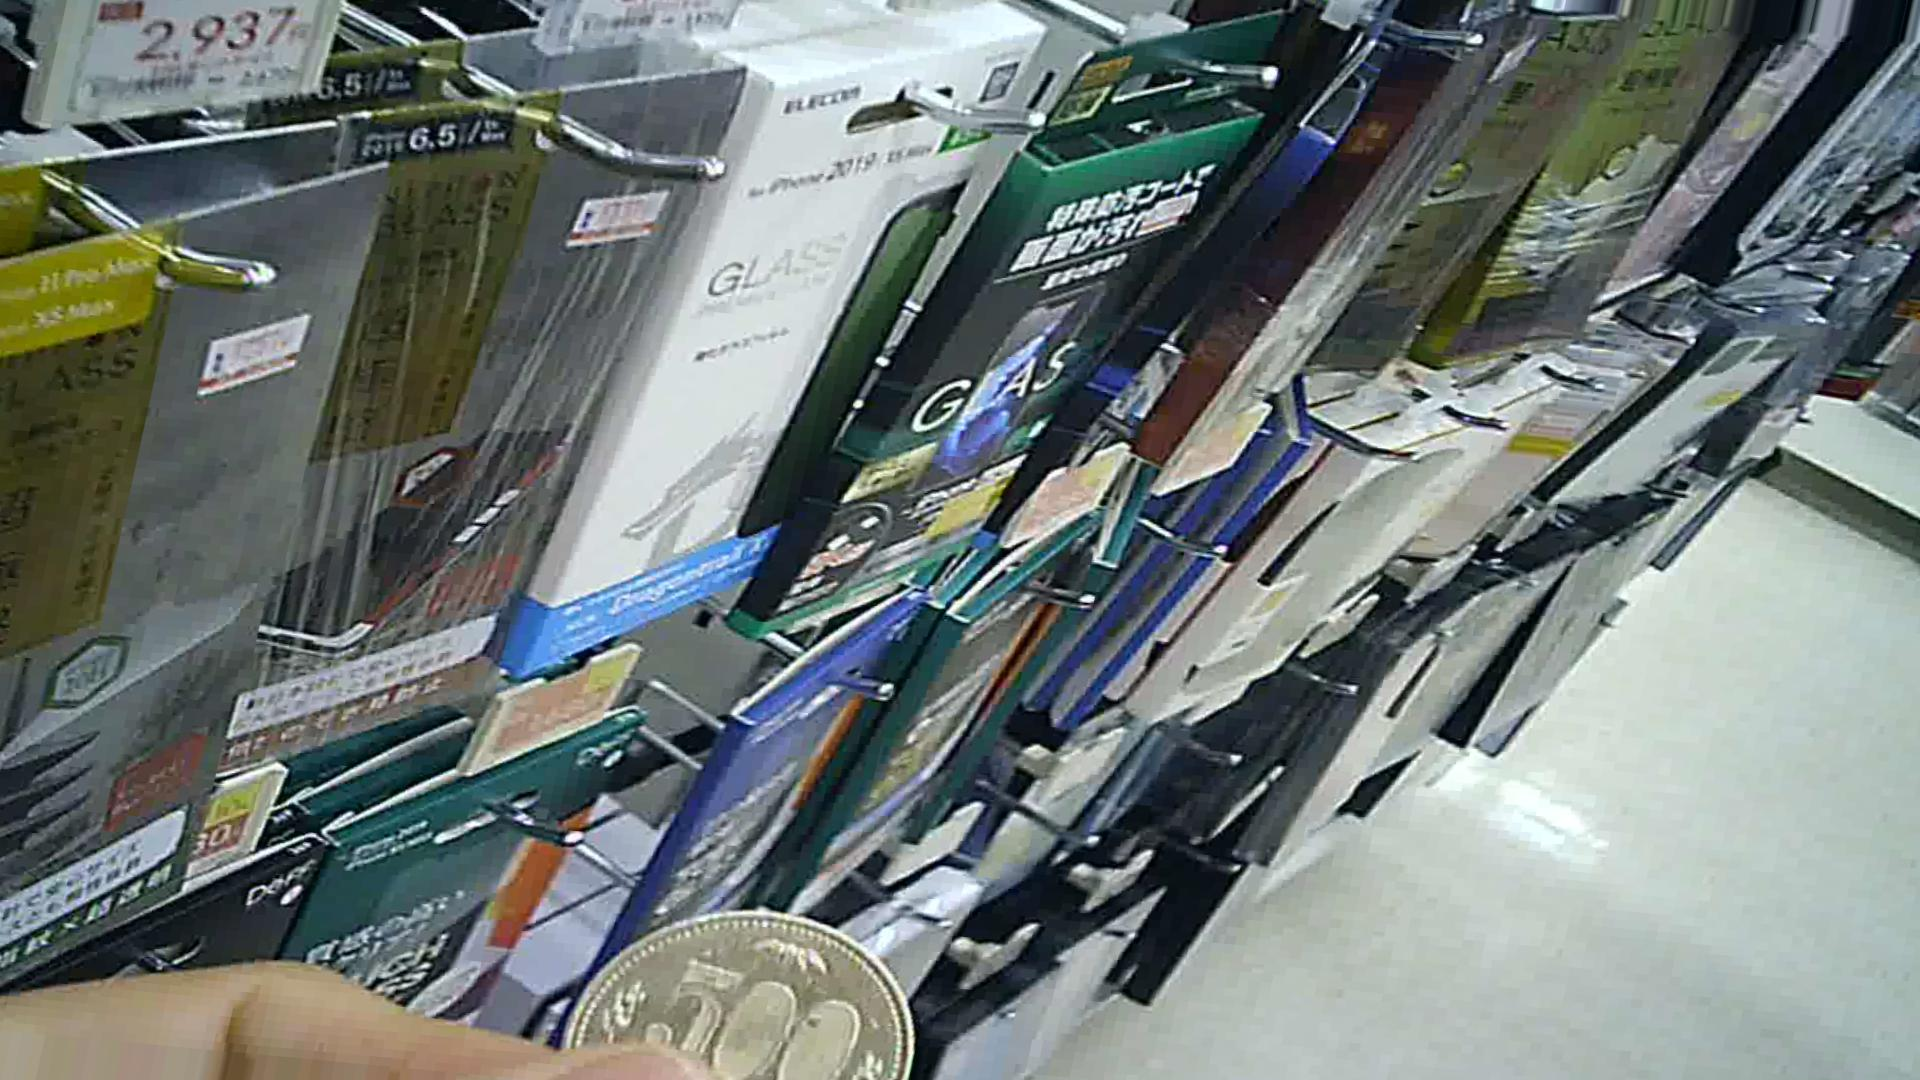500 Yen: (560, 899, 928, 1062)
